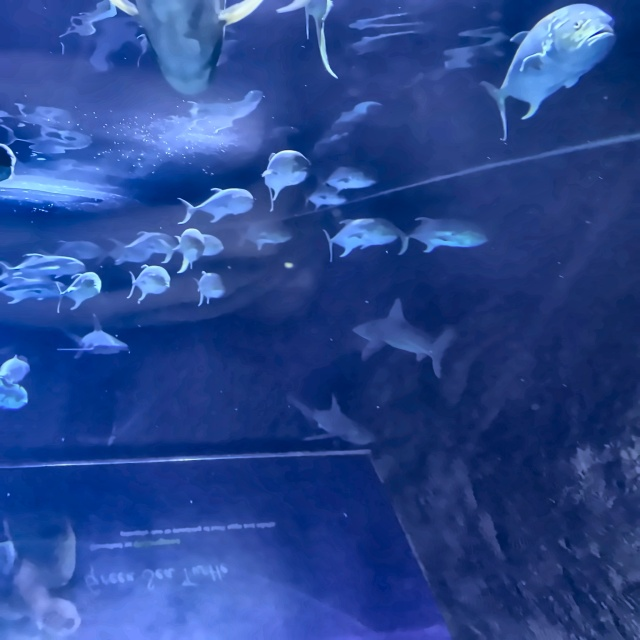fish: (475, 1, 621, 146), (97, 0, 274, 98), (275, 0, 339, 82), (386, 213, 488, 255), (322, 212, 398, 262), (255, 146, 312, 211), (175, 184, 258, 226), (0, 251, 88, 283), (100, 229, 181, 262), (47, 270, 101, 318), (119, 262, 172, 305), (0, 275, 72, 306), (320, 162, 380, 194), (165, 227, 202, 275), (299, 184, 350, 215), (188, 267, 226, 308), (0, 351, 32, 393), (184, 233, 225, 260), (0, 381, 28, 412)
shark: (355, 300, 452, 374), (289, 394, 371, 447), (59, 310, 131, 363)
